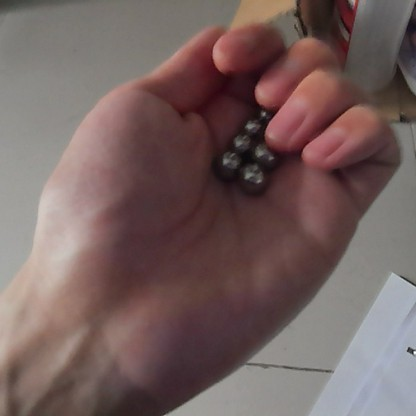ironball: (238, 161, 269, 194), (252, 143, 283, 170), (213, 153, 238, 180), (240, 115, 264, 139), (253, 102, 278, 120), (228, 133, 249, 154)
